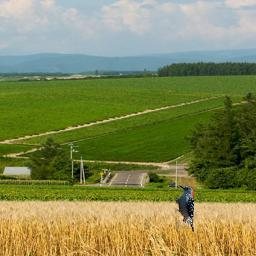Woodpecker: (175, 184, 194, 232)
